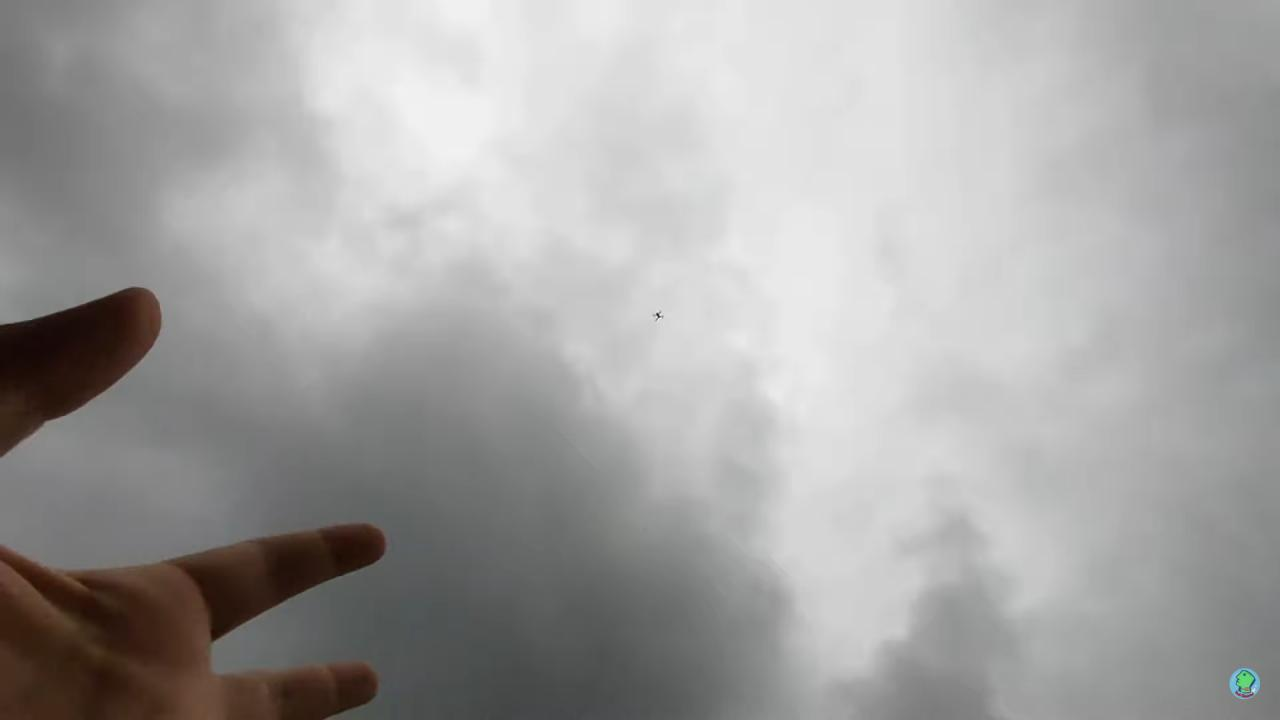Drone: (647, 305, 671, 327)
